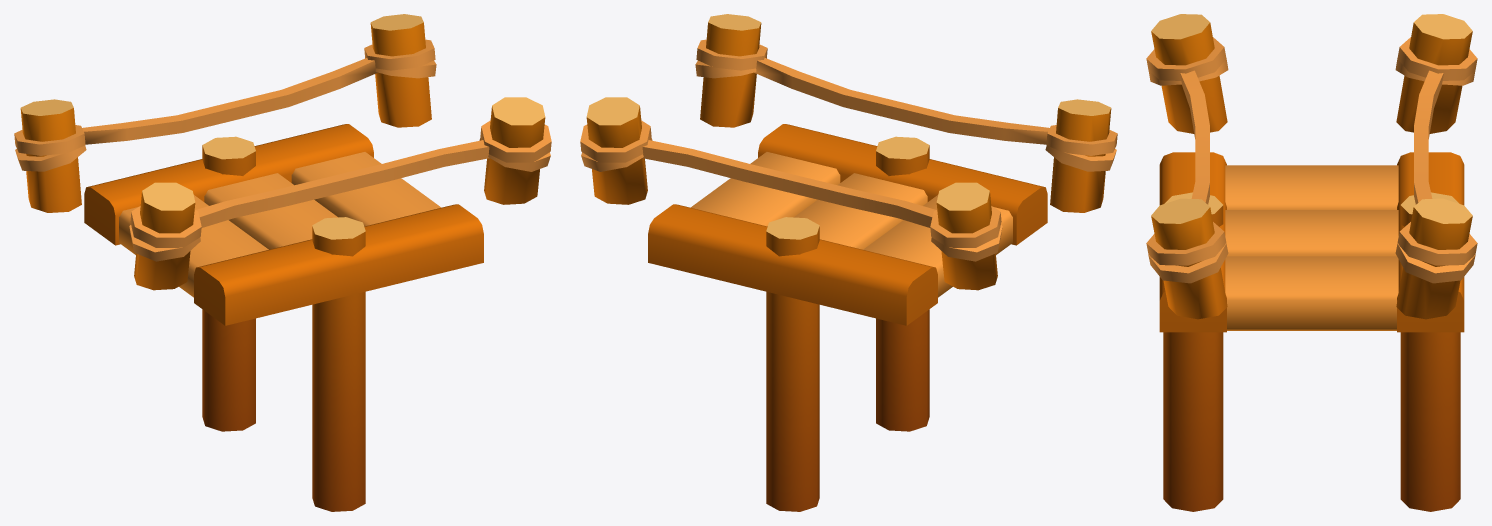
Rendered from Prop_Wooden_Bridge_01.fbx.
3 renders of one model, left to right at view 1: azimuth 30°, elevation 25°; view 2: azimuth 150°, elevation 25°; view 3: azimuth 270°, elevation 25°, orthographic. The views are drawn at different scales.
Visible parts, largest first — view 1: Prop_Wooden_Bridge_01; view 2: Prop_Wooden_Bridge_01; view 3: Prop_Wooden_Bridge_01.
Part boxes in pixels (bbox=[...]): Prop_Wooden_Bridge_01: bbox=[14, 14, 551, 511]; Prop_Wooden_Bridge_01: bbox=[580, 14, 1117, 511]; Prop_Wooden_Bridge_01: bbox=[1146, 14, 1477, 511].
Bounding box in the file's own units: 330 × 270 × 211.
